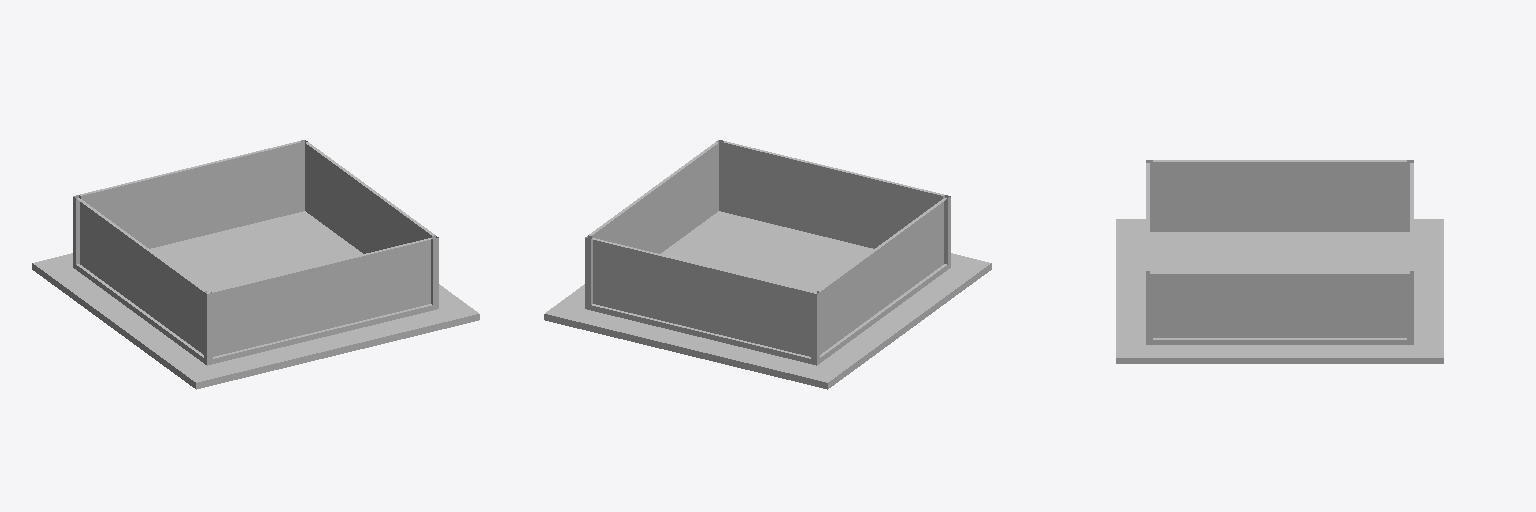
Rendered from Tower Segments - Bottom.obj.
3 views of the same model, side by side, from view 1: azimuth 30°, elevation 25°; view 2: azimuth 150°, elevation 25°; view 3: azimuth 270°, elevation 25° (orthographic).
Visible parts, largest first — view 1: Cube.001_Cube.002; view 2: Cube.001_Cube.002; view 3: Cube.001_Cube.002.
Part boxes in pixels (x1,y1,x2,y2): Cube.001_Cube.002: (32, 140, 479, 389); Cube.001_Cube.002: (544, 140, 991, 389); Cube.001_Cube.002: (1116, 160, 1443, 363).
Bounding box in the file's own units: 2.2 × 0.5796 × 2.2.